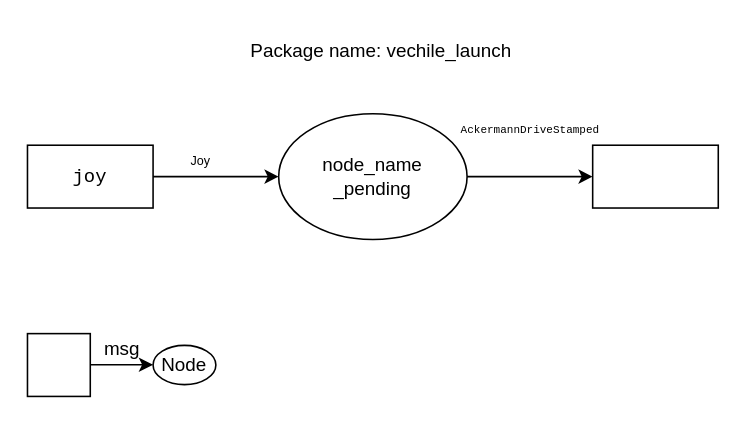
Image size: 746x424. Some labels were removed from this diagram. Each missing label, with the centre of its shape:
Topics: point (58, 364)
vehicle_command _ackermann: point (654, 176)
